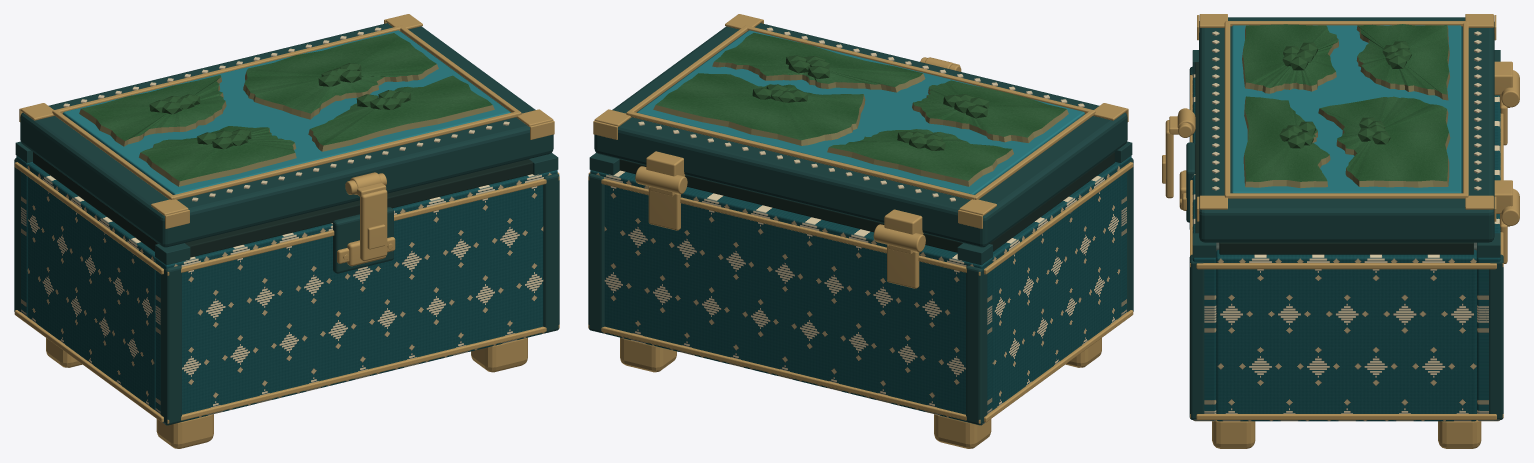
Rendered from bangladesh.glb.
3 views of the same model, side by side, from view 1: azimuth 30°, elevation 25°; view 2: azimuth 150°, elevation 25°; view 3: azimuth 270°, elevation 25° (orthographic).
Visible parts, largest first — view 1: Jamdani / front, Lid / polished slab, Jamdani / side, Delta / connected tidal water, Delta / island 4, Delta / island 3, Delta / island 1, Seam / long, Delta / island 2, Frame / corner upright, Frame / corner upright.002, Frame / horizontal welt (+15 smaller); view 2: Jamdani / rear, Lid / polished slab, Jamdani / side, Delta / connected tidal water, Delta / island 4, Delta / island 3, Delta / island 2, Delta / island 1, Frame / corner upright.001, Seam / long.001, Frame / corner upright.003, Frame / horizontal welt.001 (+19 smaller); view 3: Jamdani / side.001, Lid / polished slab, Delta / connected tidal water, Delta / island 4, Delta / island 3, Delta / island 2, Delta / island 1, Seam / side.001, Jamdani / rear, Jamdani / front, Frame / corner upright.002, Frame / corner upright.003 (+23 smaller).
Part boxes in pixels (x1,y1,x2,y2): Jamdani / front: [155, 170, 557, 425]; Lid / polished slab: [20, 23, 553, 247]; Jamdani / side: [27, 163, 155, 410]; Delta / connected tidal water: [63, 30, 510, 194]; Delta / island 4: [243, 33, 438, 119]; Delta / island 3: [308, 75, 494, 151]; Delta / island 1: [139, 126, 296, 186]; Seam / long: [185, 159, 532, 257]; Delta / island 2: [79, 75, 226, 146]; Frame / corner upright: [160, 265, 181, 424]; Frame / corner upright.002: [543, 173, 559, 332]; Frame / horizontal welt: [167, 324, 559, 423]; Jamdani / rear: [590, 170, 992, 425]; Lid / polished slab: [594, 23, 1127, 247]; Jamdani / side: [992, 163, 1120, 410]; Delta / connected tidal water: [637, 30, 1084, 194]; Delta / island 4: [653, 73, 865, 145]; Delta / island 3: [712, 33, 925, 92]; Delta / island 2: [827, 129, 1013, 186]; Delta / island 1: [912, 80, 1068, 143]; Frame / corner upright.001: [966, 265, 987, 424]; Seam / long.001: [619, 159, 962, 252]; Frame / corner upright.003: [588, 173, 604, 332]; Frame / horizontal welt.001: [588, 324, 980, 423]; Jamdani / side.001: [1216, 249, 1476, 421]; Lid / polished slab: [1199, 17, 1494, 242]; Delta / connected tidal water: [1232, 25, 1461, 193]; Delta / island 4: [1318, 96, 1450, 187]; Delta / island 3: [1243, 96, 1330, 188]; Delta / island 2: [1356, 24, 1449, 100]; Delta / island 1: [1242, 24, 1338, 93]; Seam / side.001: [1219, 242, 1473, 254]; Jamdani / rear: [1477, 95, 1500, 421]; Jamdani / front: [1192, 74, 1216, 421]; Frame / corner upright.002: [1189, 254, 1204, 419]; Frame / corner upright.003: [1489, 254, 1503, 419].
Bounding box in the file's own units: 3.78 × 2.41 × 2.88.
Materials: 10 (2 with a texture image).
